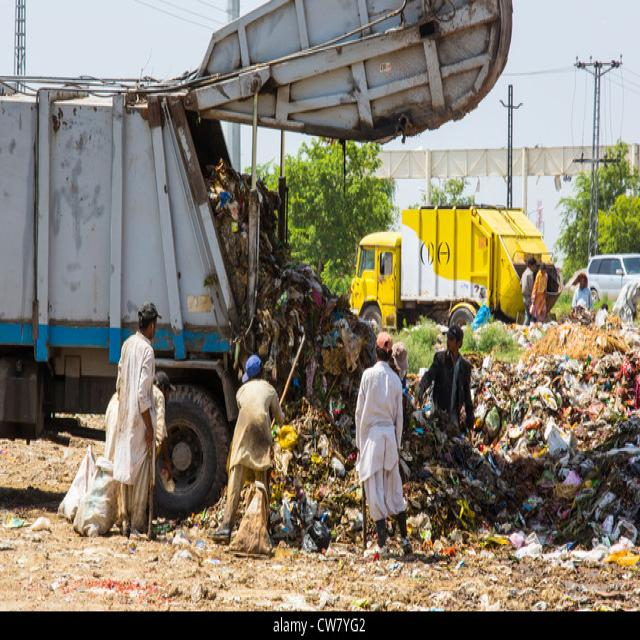trash: (218, 189, 377, 344), (508, 315, 622, 505), (292, 467, 371, 534)
